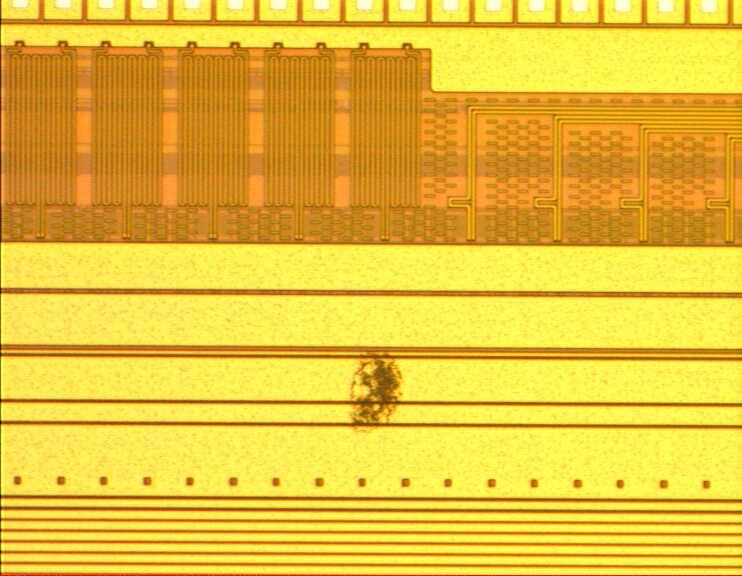PARTICLE: (320, 339, 423, 442)
